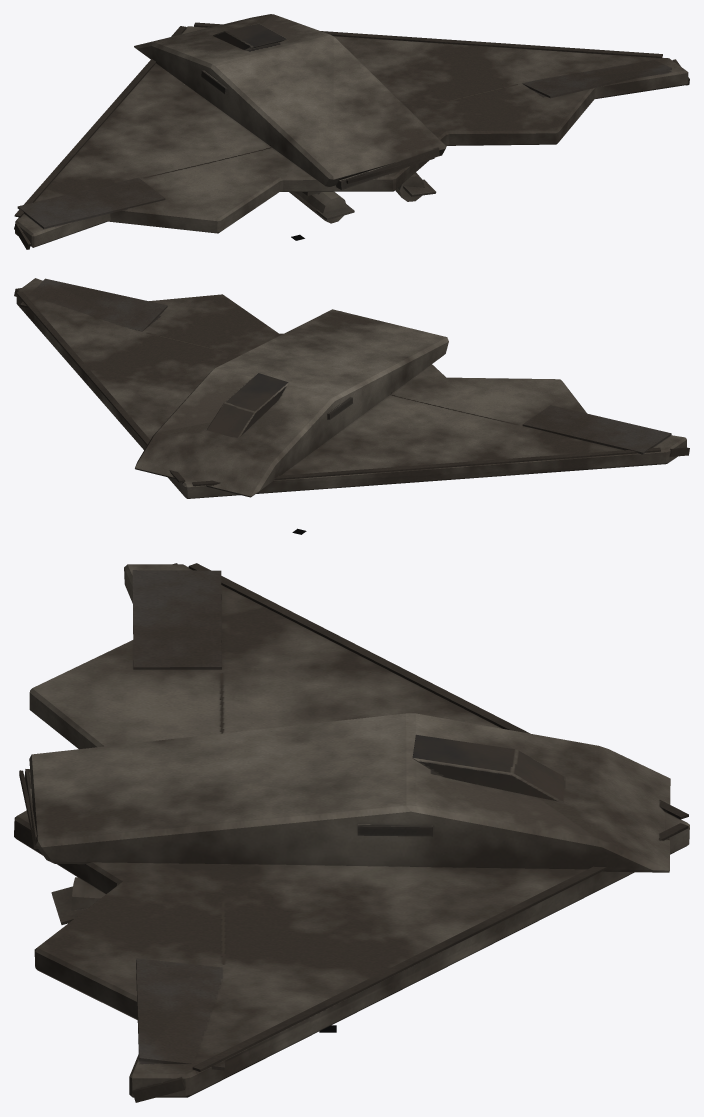
File: ord_phantom_wreck.fbx
The picture shows the model from 3 angles, top to bottom: view 1: azimuth 30°, elevation 25°; view 2: azimuth 150°, elevation 25°; view 3: azimuth 270°, elevation 25°; orthographic projection. The views are drawn at different scales.
Visible parts, largest first — view 1: base_bar, pylon_bar; view 2: base_bar; view 3: base_bar, pylon_bar.
Part boxes in pixels (box(x1,y1,x2,y2)): base_bar: box(14, 14, 689, 249); pylon_bar: box(289, 172, 436, 223); base_bar: box(14, 278, 689, 498); base_bar: box(14, 563, 689, 1102); pylon_bar: box(51, 877, 105, 924).
Bounding box in the file's own units: 1413 × 358 × 774.
2 materials, 2 textured.
